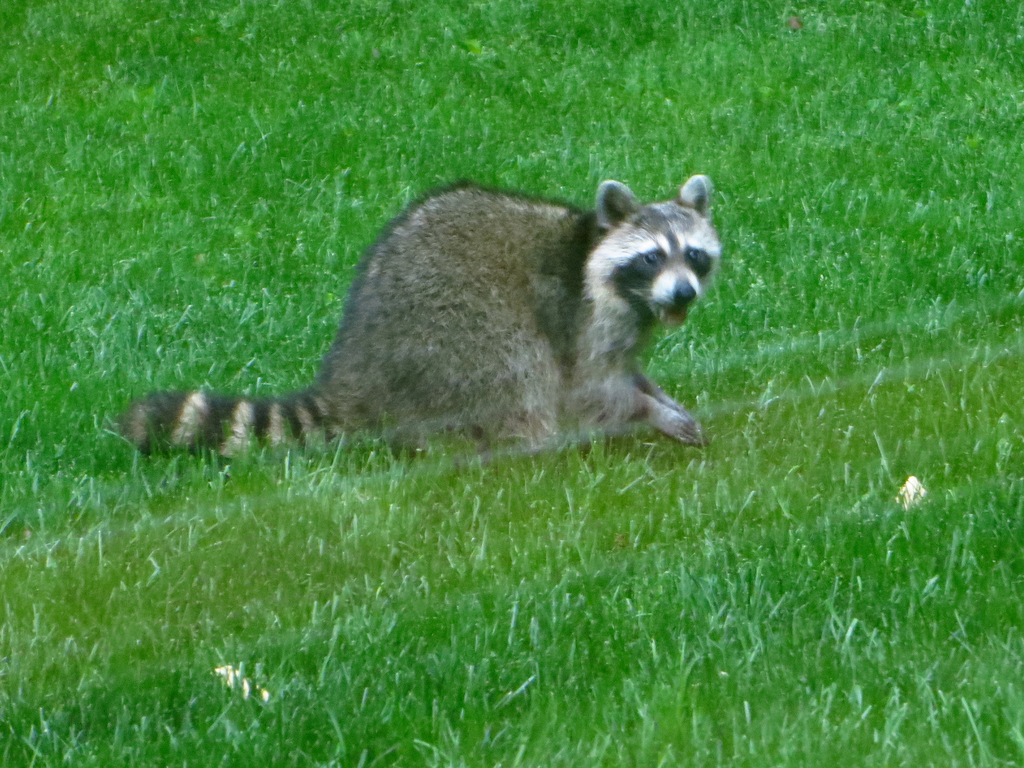raccoon: (118, 174, 722, 462)
